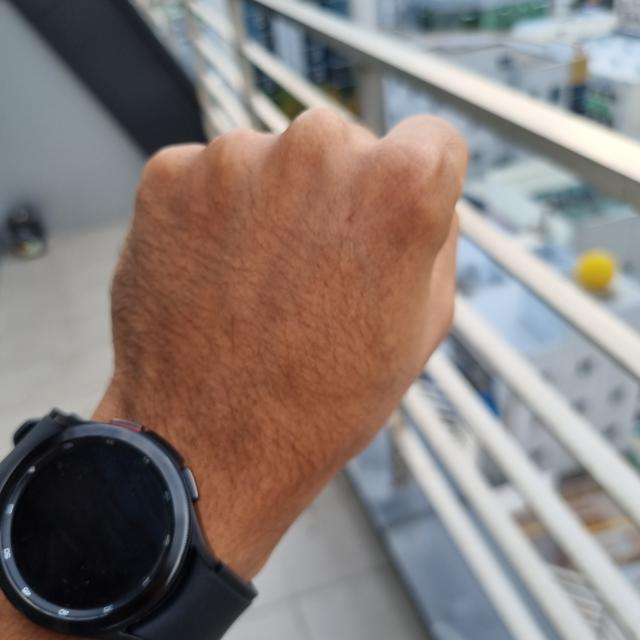Rock: (115, 103, 466, 510)
